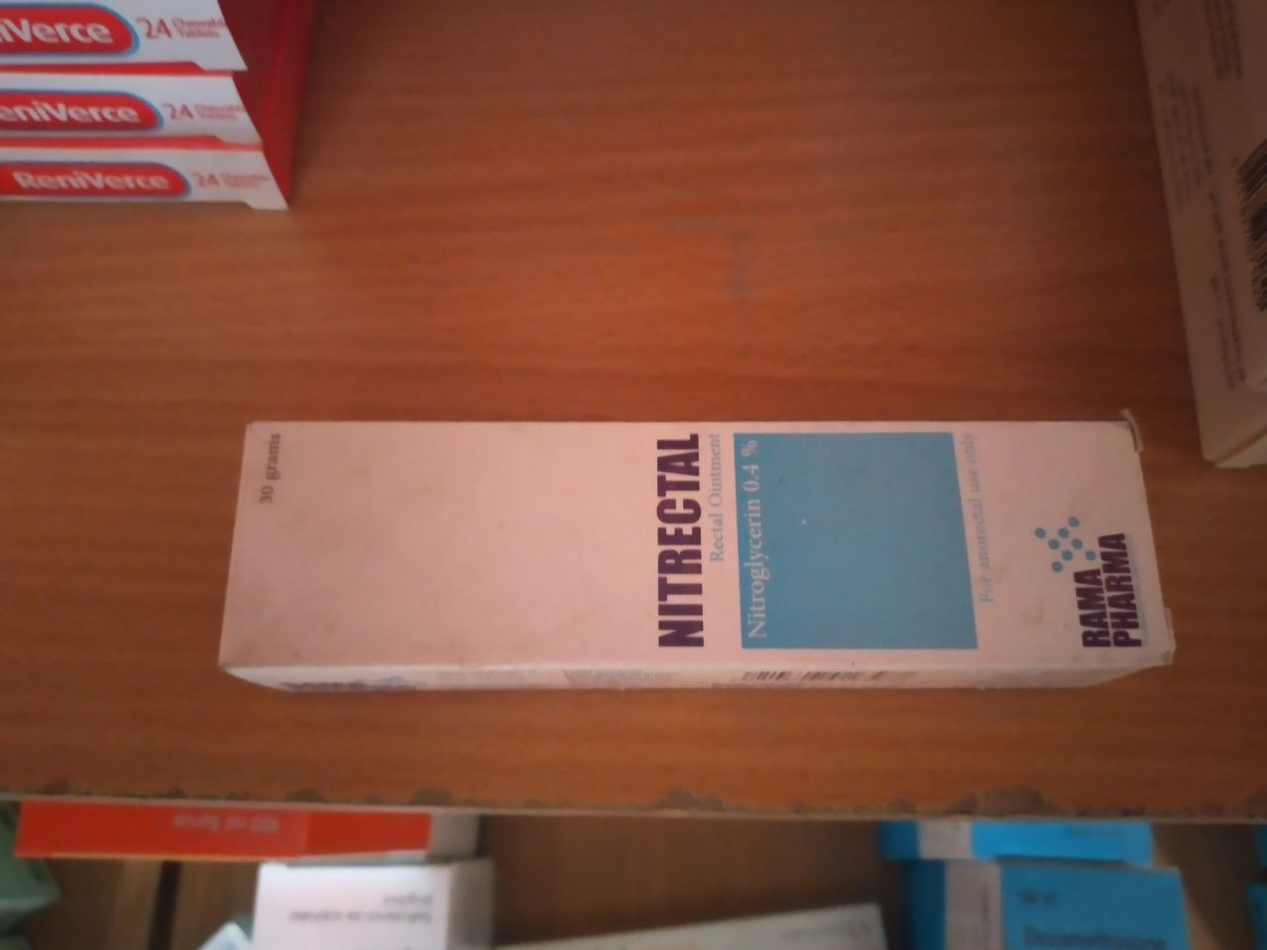Medicine: (210, 398, 1178, 722)
